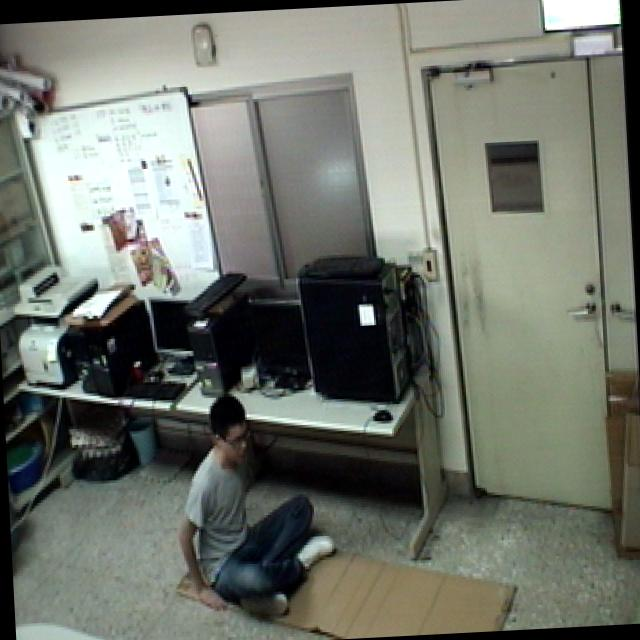sit: (167, 385, 347, 630)
